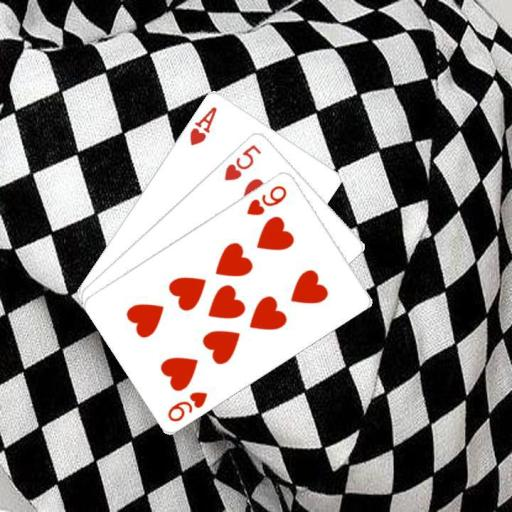5H: (221, 141, 263, 182)
9H: (243, 181, 289, 217), (164, 388, 209, 423)
AH: (186, 103, 218, 148)
